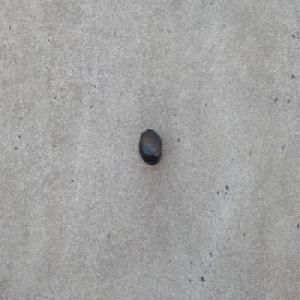FuelCap: (137, 128, 162, 166)
